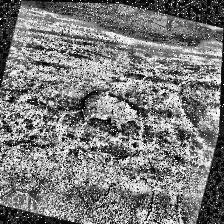pothole: (78, 84, 144, 132)
